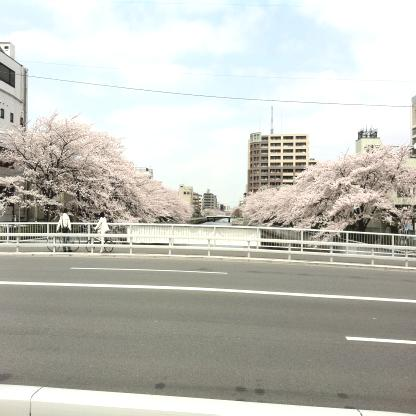Someiyoshino: (2, 116, 198, 224), (242, 144, 415, 229)
